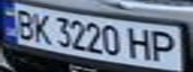0: (100, 23, 127, 57)
2: (84, 20, 106, 55), (66, 17, 87, 52)
3: (51, 15, 72, 48)
B: (9, 7, 39, 40)
H: (124, 25, 157, 61)
K: (27, 10, 54, 45)
P: (145, 28, 184, 63)
